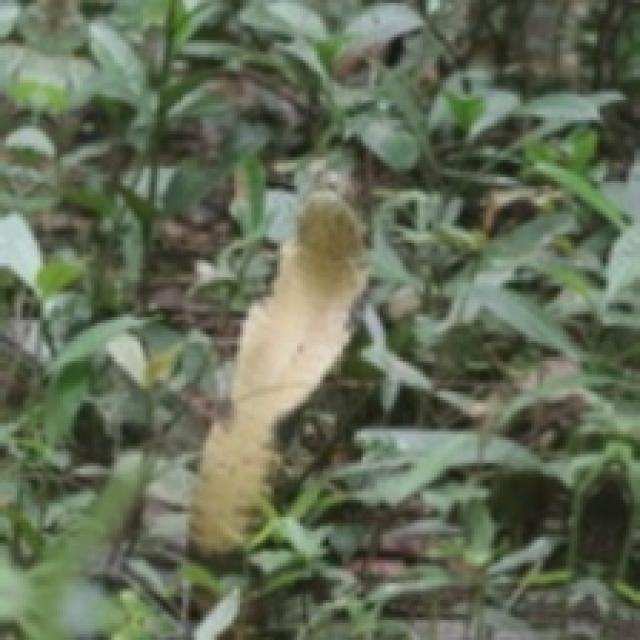king cobra: (189, 191, 363, 554)
